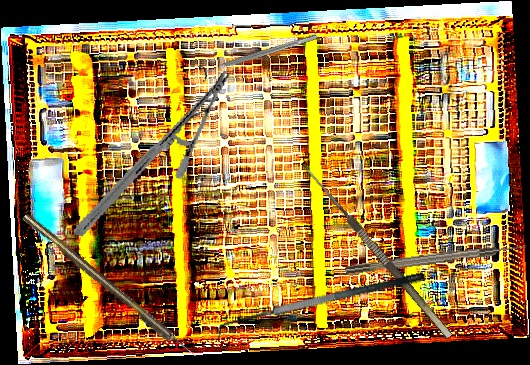Fixation Ring: (198, 27, 320, 84)
Hook Surgical: (291, 160, 453, 347), (21, 211, 198, 362), (344, 242, 528, 275)
Needle Holder: (73, 44, 232, 263)
Spatula Surgical: (212, 269, 429, 344)
